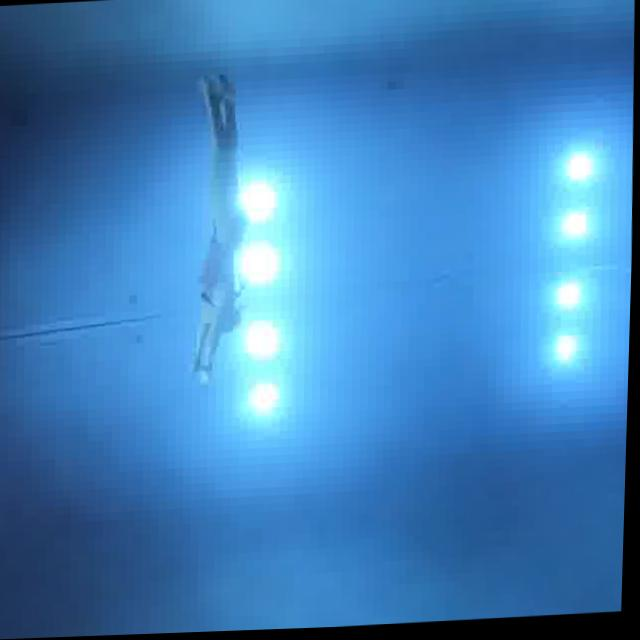human: (180, 78, 264, 401)
